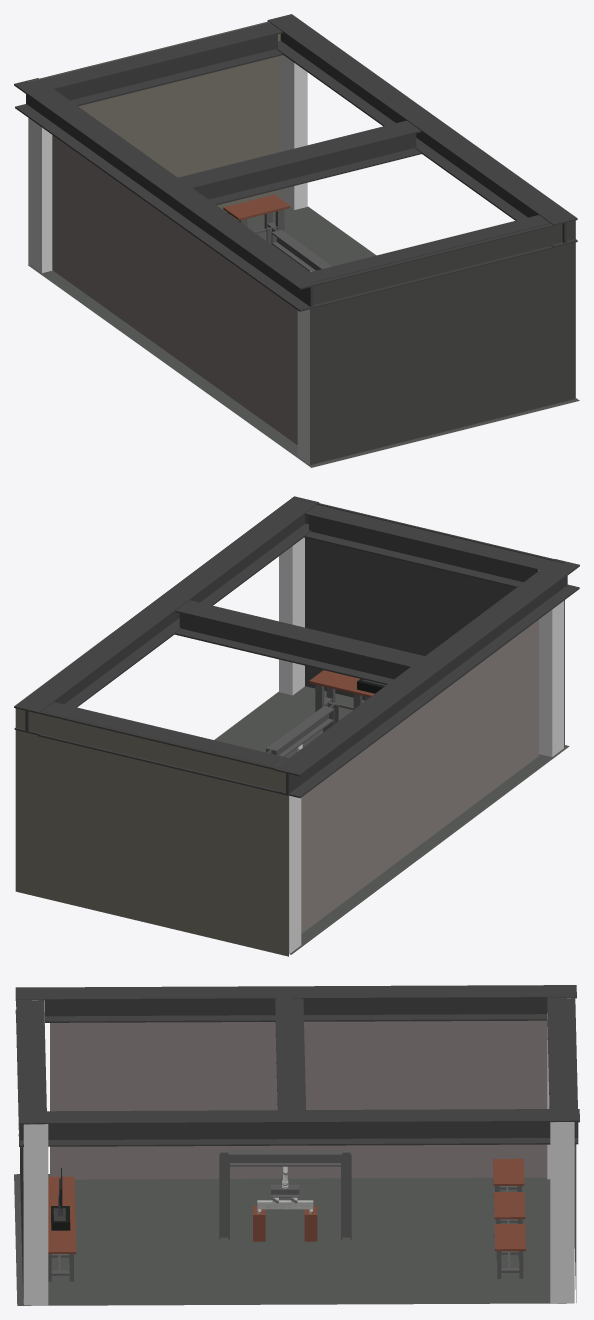
File: CR-flexion-animacion-prueba-001.gltf
3 renders of one model, top to bottom at view 1: azimuth 30°, elevation 25°; view 2: azimuth 150°, elevation 25°; view 3: azimuth 270°, elevation 25°, orthographic.
Visible parts, largest first — view 1: VIGAS, PARED-IZQUIERDA, PARED-FONDO, PARED-DERECHA, 007-COLUMNAS, PISO, 006-MUEBLES, 003-MARCO-CARGA; view 2: PARED-DERECHA, VIGAS, PARED-FONDO, PARED-IZQUIERDA, 007-COLUMNAS, PISO, 006-MUEBLES, 003-MARCO-CARGA; view 3: PISO, PARED-FONDO, VIGAS, 007-COLUMNAS, 006-MUEBLES, 003-MARCO-CARGA, 005-APOYOS, 001-VIGA-CR, 004.1-CARGA-2/3, PARED-IZQUIERDA, PARED-DERECHA.
Part boxes in pixels (left/top/right/bottom): VIGAS: left=14, top=14, right=577, bottom=311; PARED-IZQUIERDA: left=310, top=216, right=575, bottom=464; PARED-FONDO: left=52, top=135, right=297, bottom=444; PARED-DERECHA: left=28, top=21, right=281, bottom=264; 007-COLUMNAS: left=29, top=55, right=575, bottom=464; PISO: left=28, top=206, right=579, bottom=467; 006-MUEBLES: left=223, top=194, right=290, bottom=233; 003-MARCO-CARGA: left=266, top=226, right=331, bottom=271; PARED-DERECHA: left=15, top=708, right=288, bottom=956; VIGAS: left=14, top=496, right=579, bottom=798; PARED-FONDO: left=301, top=619, right=538, bottom=933; PARED-IZQUIERDA: left=293, top=498, right=564, bottom=747; 007-COLUMNAS: left=275, top=537, right=564, bottom=954; PISO: left=214, top=686, right=569, bottom=954; 006-MUEBLES: left=309, top=639, right=398, bottom=711; 003-MARCO-CARGA: left=263, top=702, right=338, bottom=756; PISO: left=14, top=1174, right=573, bottom=1305; PARED-FONDO: left=50, top=1020, right=547, bottom=1179; VIGAS: left=15, top=985, right=579, bottom=1146; 007-COLUMNAS: left=23, top=998, right=574, bottom=1305; 006-MUEBLES: left=48, top=1158, right=525, bottom=1281; 003-MARCO-CARGA: left=219, top=1149, right=351, bottom=1239; 005-APOYOS: left=253, top=1206, right=317, bottom=1241; 001-VIGA-CR: left=257, top=1200, right=313, bottom=1209; 004.1-CARGA-2/3: left=271, top=1184, right=299, bottom=1203; PARED-IZQUIERDA: left=20, top=993, right=23, bottom=1297; PARED-DERECHA: left=573, top=997, right=576, bottom=1302.
Bounding box in the file's own units: 10.6 × 6.51 × 18.2.
Materials: 18 (1 with a texture image).
